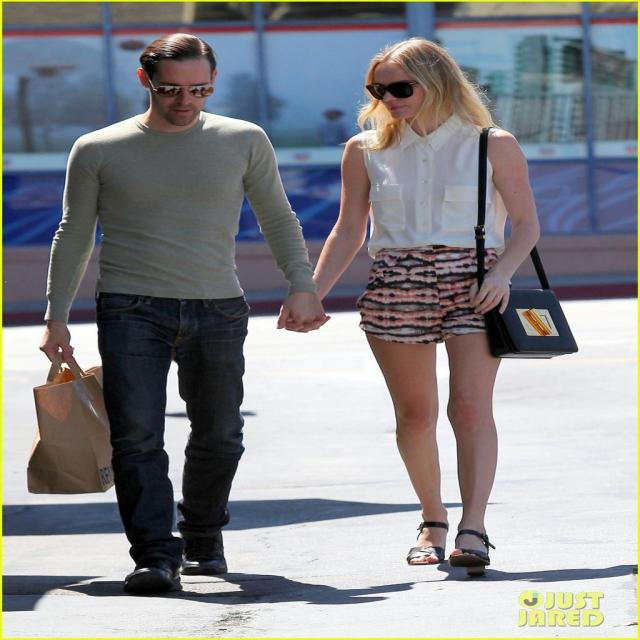Face: (135, 36, 227, 140), (360, 59, 455, 125)
